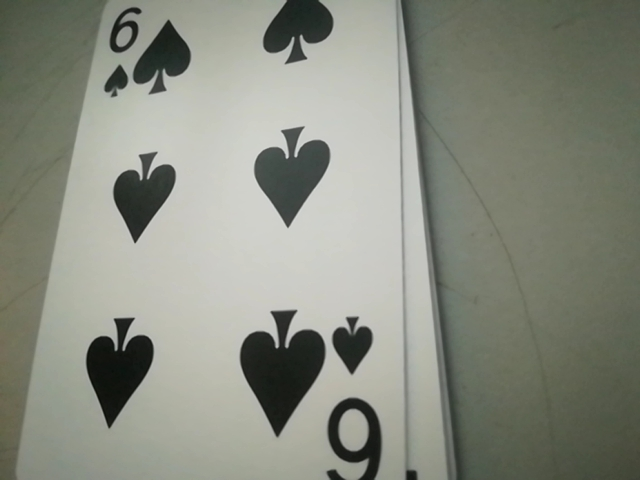ht 6: (323, 315, 389, 480), (96, 1, 137, 103)
